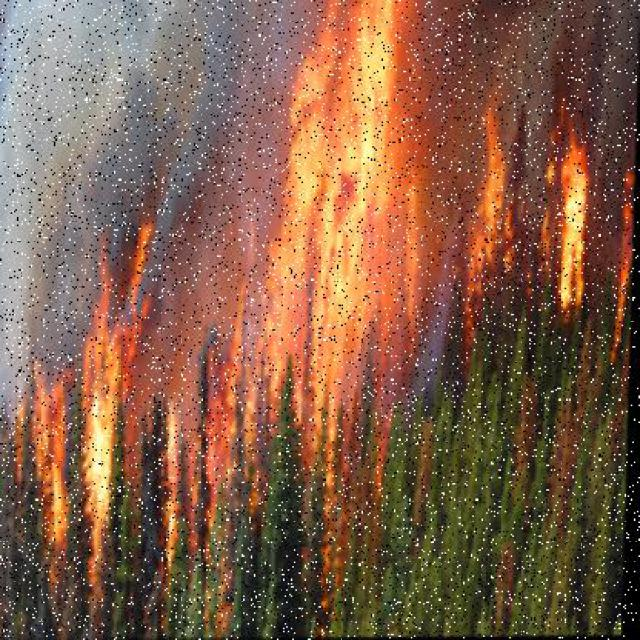fire: (244, 1, 640, 444)
